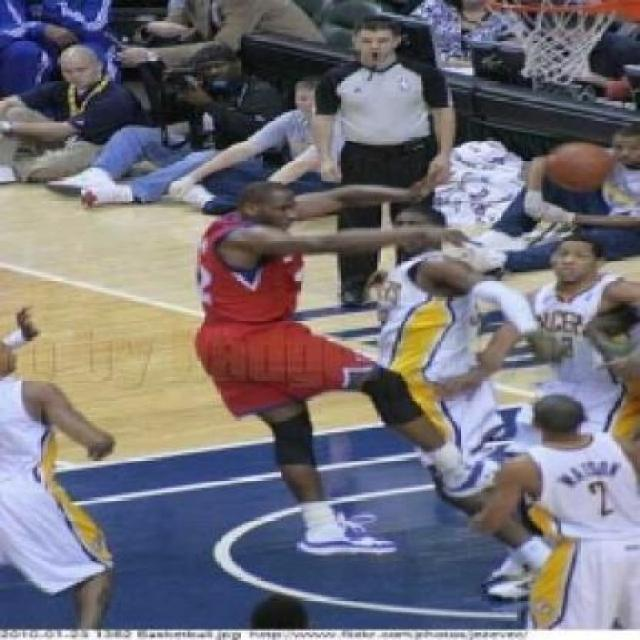basketball: (542, 134, 618, 200)
rim: (484, 0, 620, 84)
